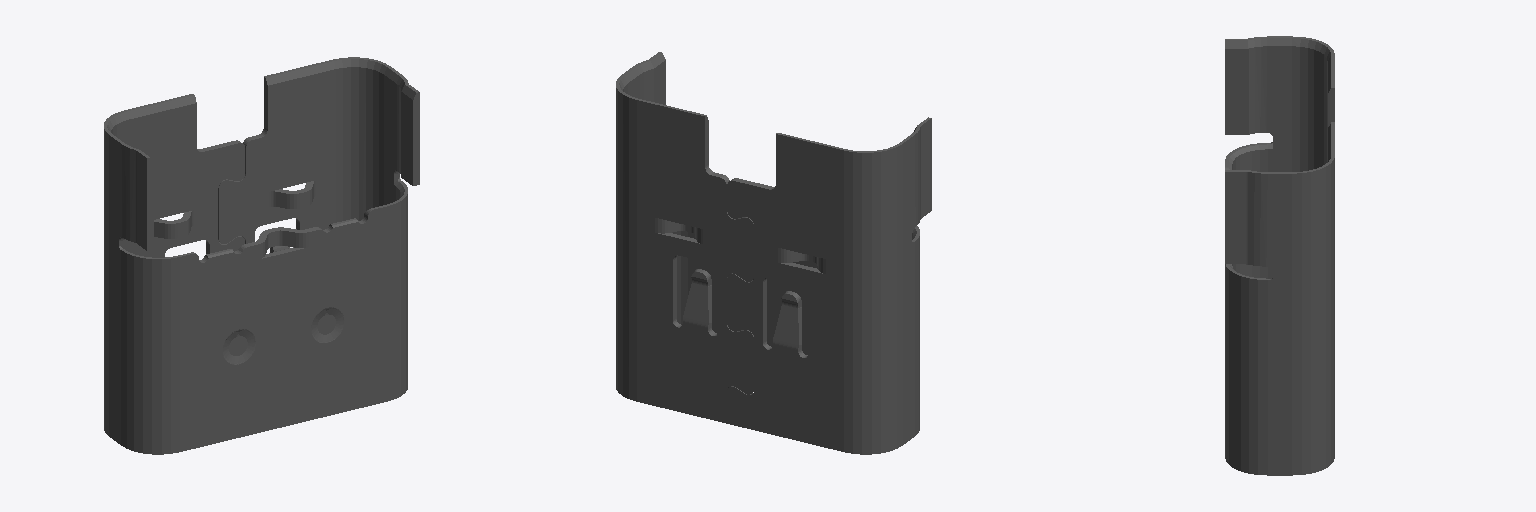
File: mainshell.obj
3 views of the same model, side by side, from view 1: azimuth 30°, elevation 25°; view 2: azimuth 150°, elevation 25°; view 3: azimuth 270°, elevation 25° (orthographic).
Parts seen in each view (by area): view 1: mainshell; view 2: mainshell; view 3: mainshell.
Part boxes in pixels (bbox=[...]): mainshell: bbox=[104, 57, 419, 454]; mainshell: bbox=[616, 52, 931, 454]; mainshell: bbox=[1225, 36, 1334, 475].
Bounding box in the file's own units: 0.0088 × 0.0091 × 0.003.